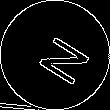N_NW: (23, 25, 87, 85)
